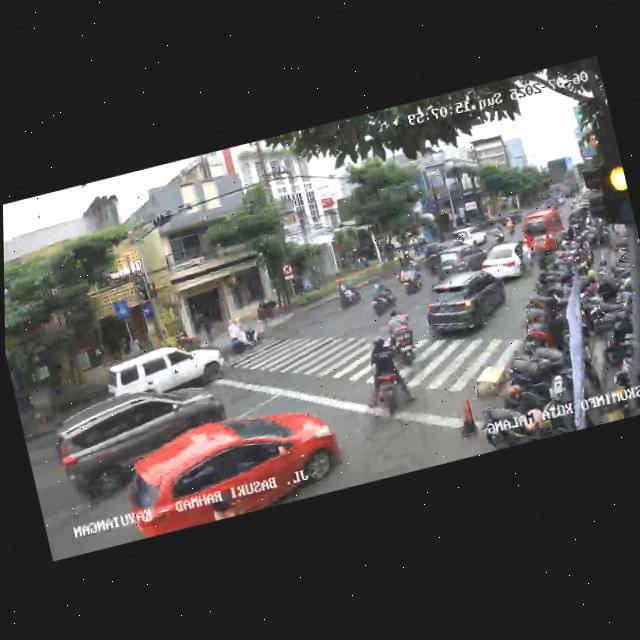car: (116, 393, 349, 540), (50, 368, 240, 510), (104, 333, 226, 410), (416, 264, 513, 344), (520, 203, 570, 258), (477, 238, 529, 287), (433, 241, 485, 281), (421, 236, 471, 277)
motorcycle: (356, 332, 418, 422), (383, 305, 424, 366), (220, 311, 263, 368), (365, 275, 399, 319), (332, 273, 362, 311), (397, 257, 426, 296), (488, 222, 505, 245), (502, 213, 517, 235)
